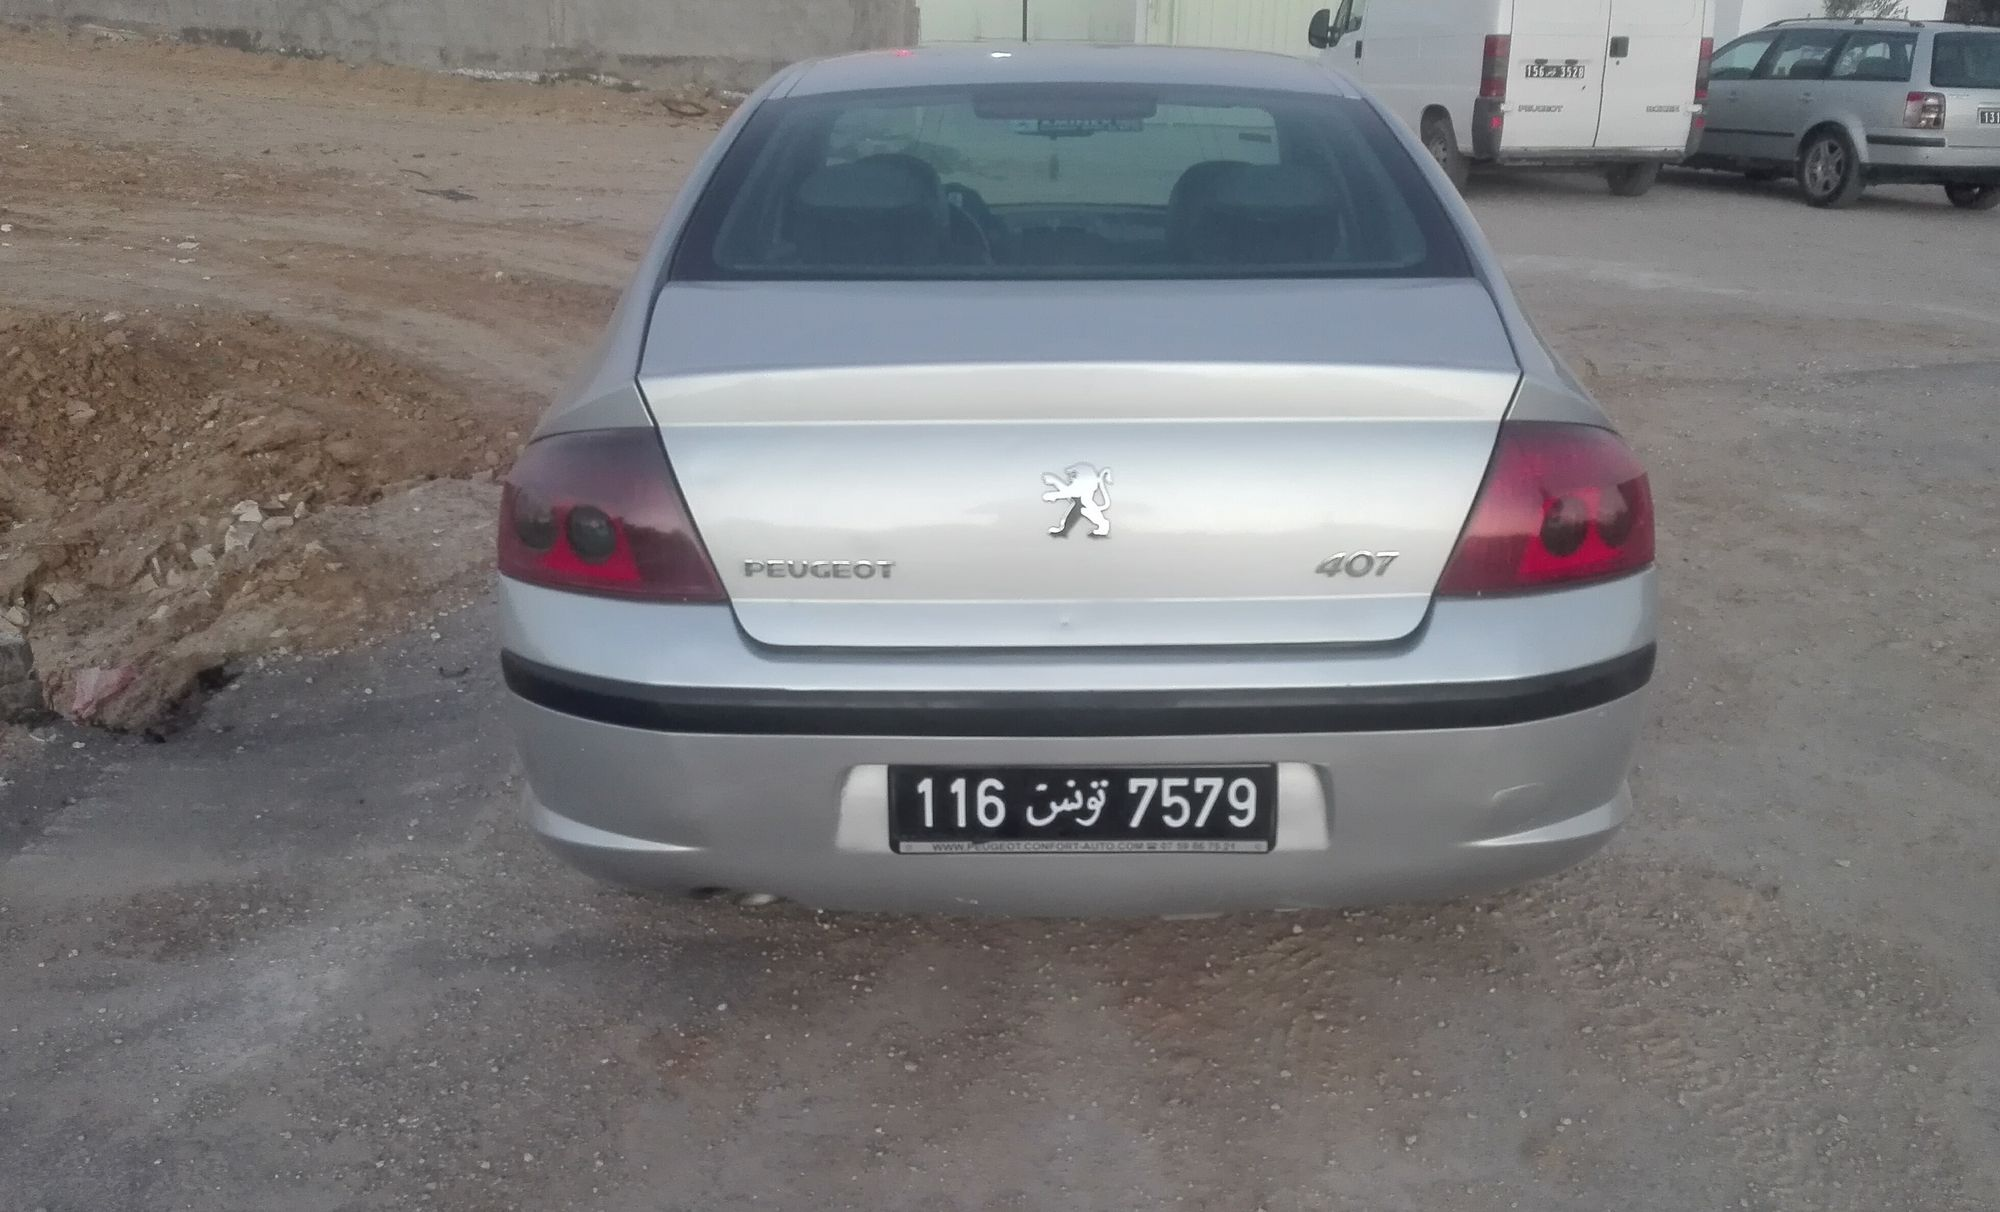LP: (890, 766, 1278, 843)
